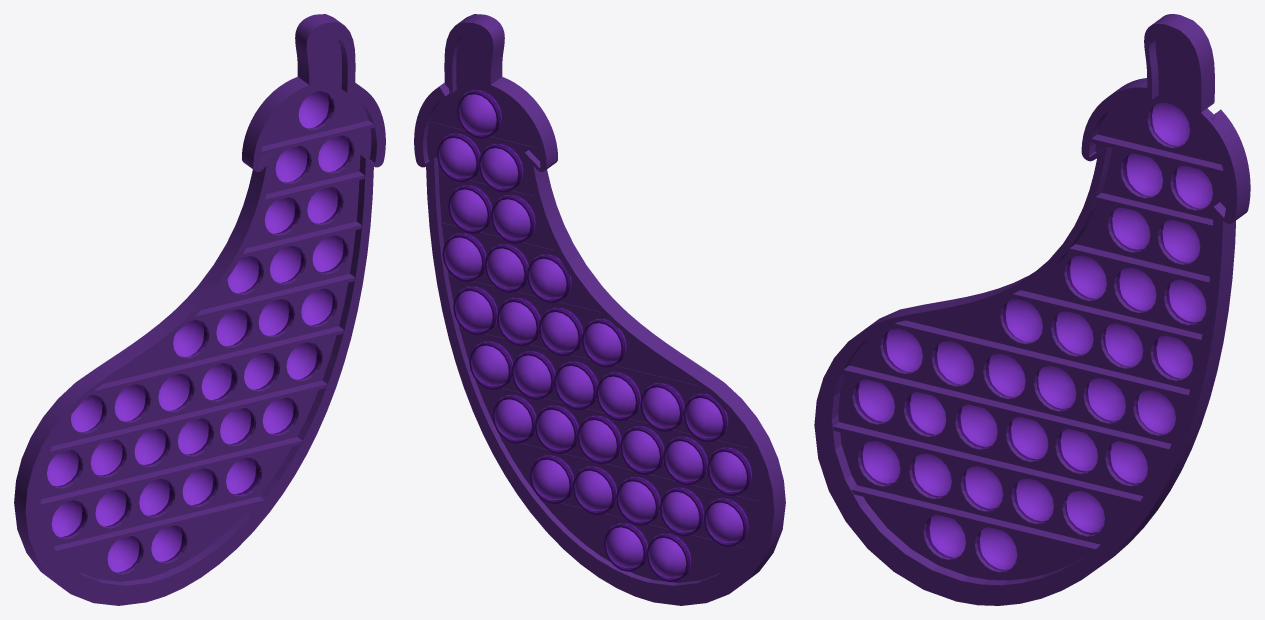
The model's file is EggPlant.fbx.
The picture shows the model from 3 angles, left to right: view 1: azimuth 30°, elevation 25°; view 2: azimuth 150°, elevation 25°; view 3: azimuth 330°, elevation 25°; orthographic projection. The views are drawn at different scales.
Visible parts, largest first — view 1: PlacementPos, Popik (11), Popik (13), Popik (28), Popik (15), Popik (24), Popik (16), Popik (26), Popik (14), Popik (4), Popik (25), Popik (3) (+20 smaller); view 2: PlacementPos, Popik (18), Popik (11), Popik (12), Popik (30), Popik (10), Popik (19), Popik (28), Popik (3), Popik (7), Popik (27), Popik (26) (+20 smaller); view 3: PlacementPos, Popik (26), Popik (5), Popik (4), Popik (16), Popik (12), Popik (25), Popik (28), Popik (6), Popik (17), Popik (24), Popik (11) (+20 smaller).
Part boxes in pixels (x1,y1,x2,y2): PlacementPos: [14, 14, 385, 605]; Popik (11): [298, 91, 333, 128]; Popik (13): [201, 363, 235, 400]; Popik (28): [51, 500, 86, 537]; Popik (15): [286, 342, 320, 379]; Popik (24): [226, 457, 260, 494]; Popik (16): [114, 384, 148, 421]; Popik (26): [139, 479, 173, 516]; Popik (14): [244, 352, 278, 389]; Popik (4): [312, 235, 346, 272]; Popik (25): [182, 468, 216, 505]; Popik (3): [301, 288, 335, 325]; PlacementPos: [414, 14, 785, 605]; Popik (18): [707, 447, 752, 495]; Popik (11): [457, 89, 502, 138]; Popik (12): [596, 372, 641, 420]; Popik (30): [646, 533, 691, 582]; Popik (10): [478, 143, 523, 192]; Popik (19): [663, 436, 708, 485]; Popik (28): [704, 498, 748, 546]; Popik (3): [453, 286, 497, 335]; Popik (7): [491, 194, 536, 243]; Popik (27): [659, 487, 704, 536]; Popik (26): [616, 476, 660, 525]; PlacementPos: [814, 14, 1250, 605]; Popik (26): [963, 466, 1003, 509]; Popik (5): [1116, 267, 1156, 311]; Popik (4): [1166, 279, 1206, 323]; Popik (16): [934, 341, 974, 384]; Popik (12): [985, 353, 1025, 397]; Popik (25): [1014, 478, 1053, 522]; Popik (28): [860, 441, 900, 484]; Popik (6): [1067, 255, 1106, 299]; Popik (17): [883, 328, 922, 372]; Popik (24): [1065, 491, 1104, 534]; Popik (11): [1150, 102, 1189, 146].
Size of the model in its own units: 3.31 by 4.7 by 0.322.
